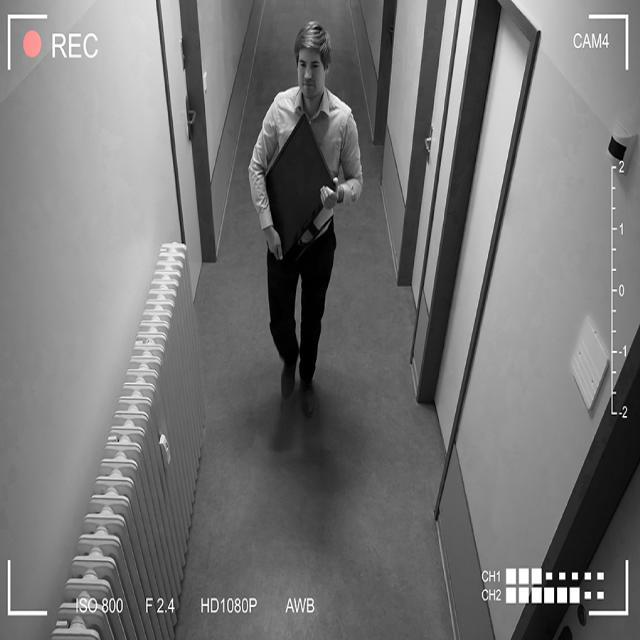standing: (248, 21, 362, 415)
